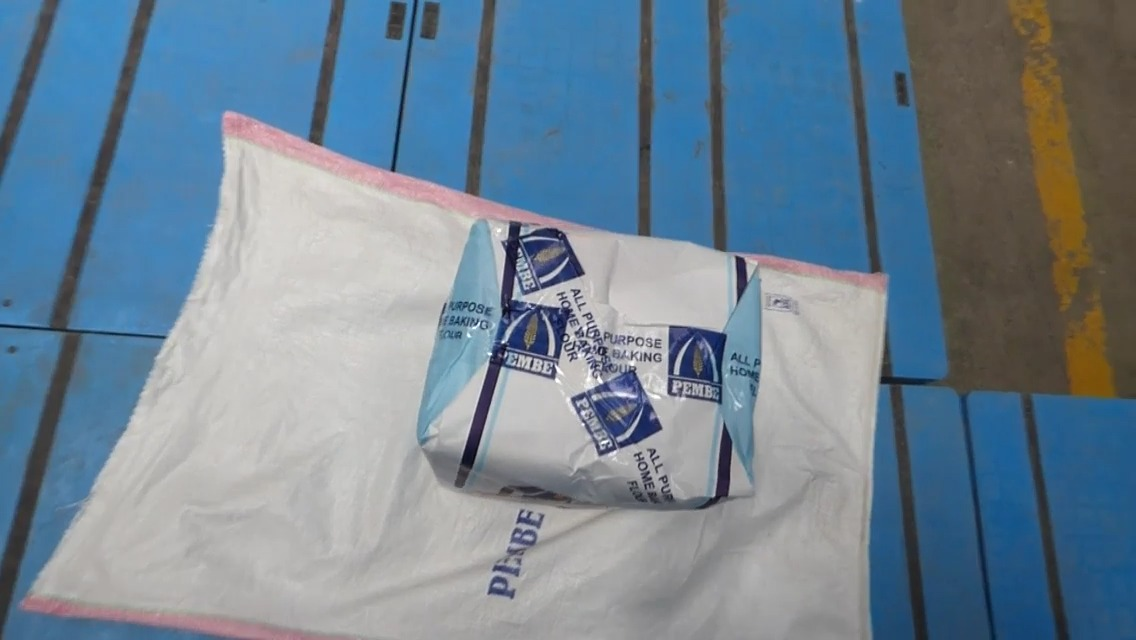wheat_flour_blue_label: (402, 220, 765, 525)
